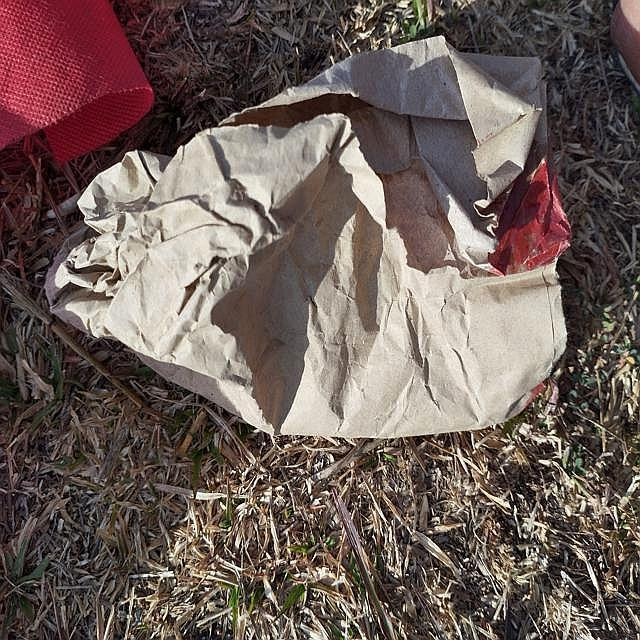Biodegradable: (47, 36, 572, 435)
